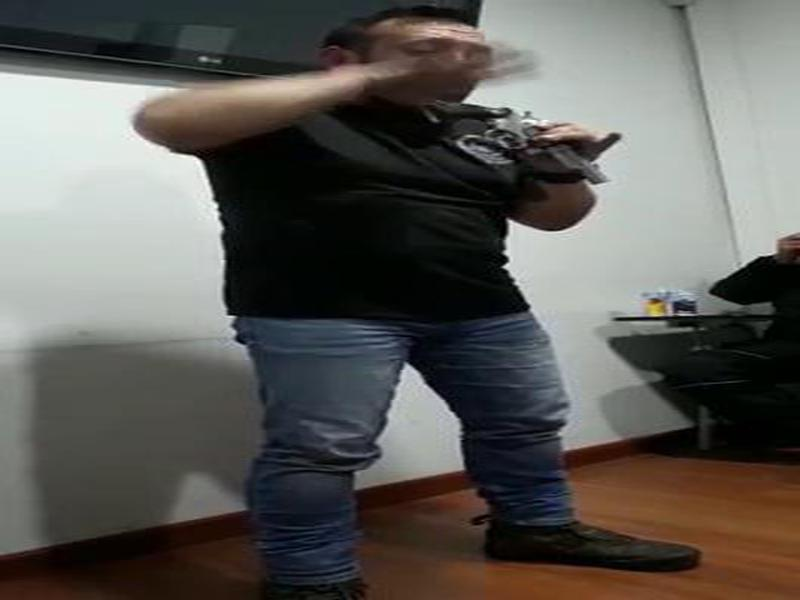Revolver: (459, 88, 627, 207)
